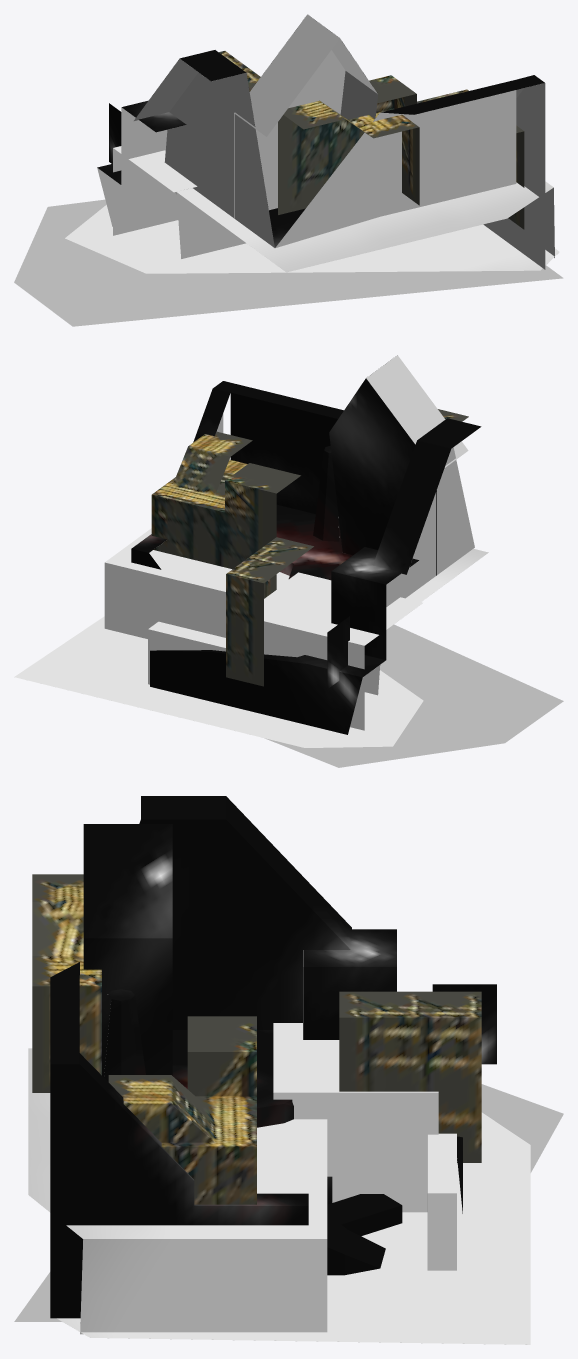
Rendered from T_Forge_01.fbx.
The picture shows the model from 3 angles, top to bottom: view 1: azimuth 30°, elevation 25°; view 2: azimuth 150°, elevation 25°; view 3: azimuth 270°, elevation 25°; orthographic projection. The views are drawn at different scales.
Parts seen in each view (by area): view 1: T_Forge_01, FX_BuildUnLock_Glow, T_BuildForm_03, T_Forge_01_Lock, FX_Territory_NightGlow, T_BuildForm_01; view 2: FX_Territory_NightGlow, FX_BuildUnLock_Glow, T_Forge_01, T_BuildForm_01, T_BuildForm_02 (2); view 3: FX_Territory_NightGlow, FX_BuildUnLock_Glow, T_BuildForm_01, T_BuildForm_02 (2), T_BuildForm_03, T_Forge_01.
Boxes of the visible parts, box(x1,y1,x2,y2) form: T_Forge_01: box(14, 14, 563, 326); FX_BuildUnLock_Glow: box(65, 146, 559, 273); T_BuildForm_03: box(278, 100, 419, 214); T_Forge_01_Lock: box(71, 148, 558, 273); FX_Territory_NightGlow: box(97, 50, 544, 247); T_BuildForm_01: box(369, 75, 524, 229); FX_Territory_NightGlow: box(131, 378, 481, 734); FX_BuildUnLock_Glow: box(14, 528, 488, 747); T_Forge_01: box(216, 355, 563, 767); T_BuildForm_01: box(151, 431, 300, 569); T_BuildForm_02 (2): box(226, 537, 313, 686); FX_Territory_NightGlow: box(50, 796, 496, 1318); FX_BuildUnLock_Glow: box(28, 1023, 530, 1344); T_BuildForm_01: box(108, 1016, 256, 1204); T_BuildForm_02 (2): box(339, 991, 481, 1162); T_BuildForm_03: box(32, 874, 101, 1092); T_Forge_01: box(14, 950, 563, 1321).
Size of the model in its own units: 11.54 by 6.8 by 8.94.
